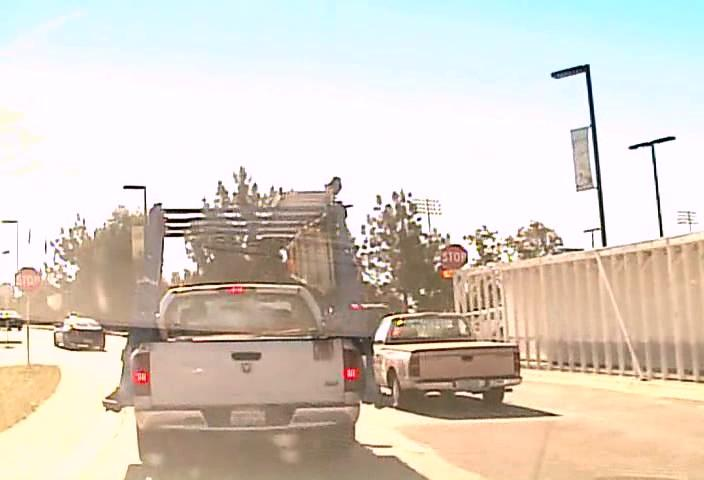stop: (440, 243, 468, 271)
